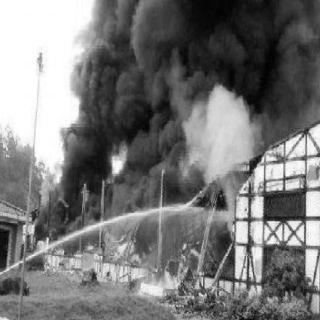Fire: (164, 134, 212, 187)
